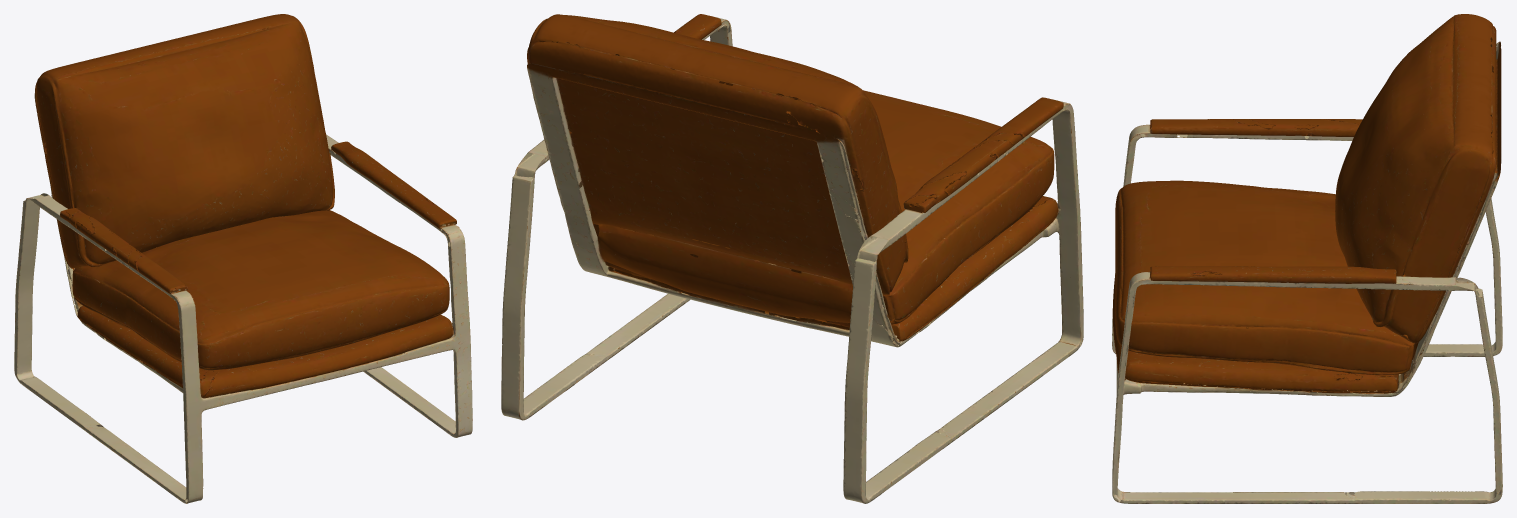
File: designer_lounge_chair.raw.glb
The picture shows the model from 3 angles, left to right: view 1: azimuth 30°, elevation 25°; view 2: azimuth 150°, elevation 25°; view 3: azimuth 270°, elevation 25°; orthographic projection. The views are drawn at different scales.
Parts seen in each view (by area): view 1: world; view 2: world; view 3: world.
Boxes of the visible parts, x1,y1,x2,y2 form: world: [14, 14, 472, 503]; world: [501, 14, 1083, 503]; world: [1112, 14, 1502, 503].
Bounding box in the file's own units: 0.9564 × 0.9845 × 0.999.
1 material, 1 textured.
